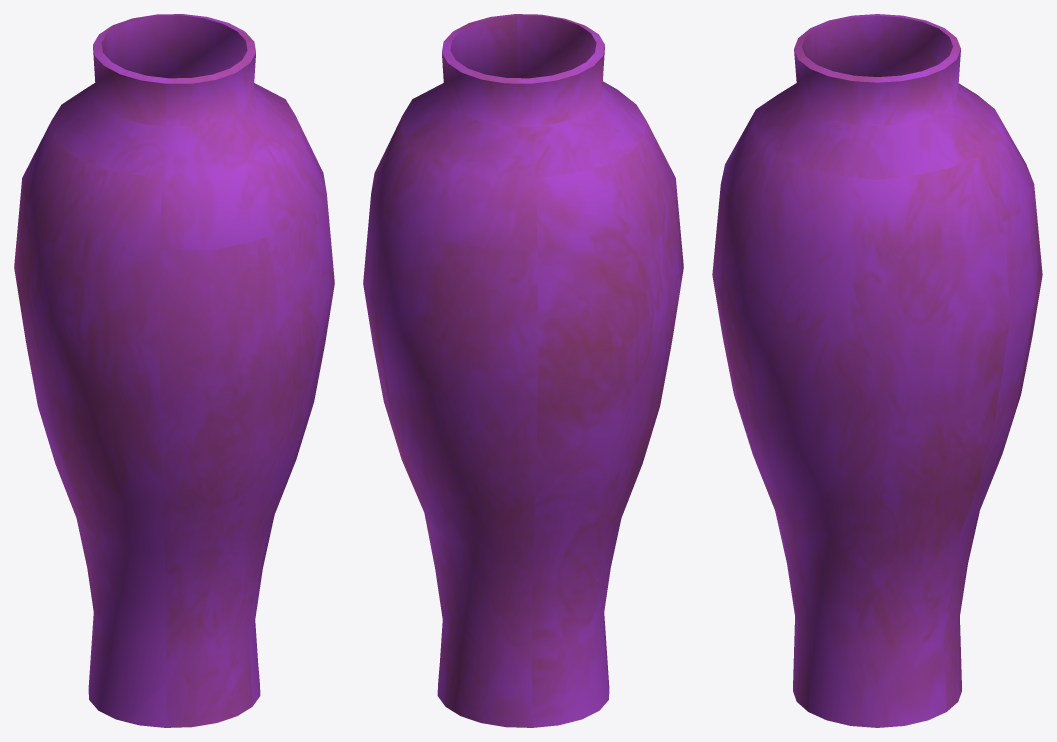
File: VASE_PURPLE.fbx
The picture shows the model from 3 angles, left to right: view 1: azimuth 30°, elevation 25°; view 2: azimuth 150°, elevation 25°; view 3: azimuth 270°, elevation 25°; orthographic projection.
Parts seen in each view (by area): view 1: vase_long_finished; view 2: vase_long_finished; view 3: vase_long_finished.
Boxes of the visible parts, bbox=[...] form: vase_long_finished: bbox=[14, 14, 334, 727]; vase_long_finished: bbox=[363, 14, 683, 727]; vase_long_finished: bbox=[712, 14, 1042, 727].
Bounding box in the file's own units: 90.21 × 201 × 93.57.
